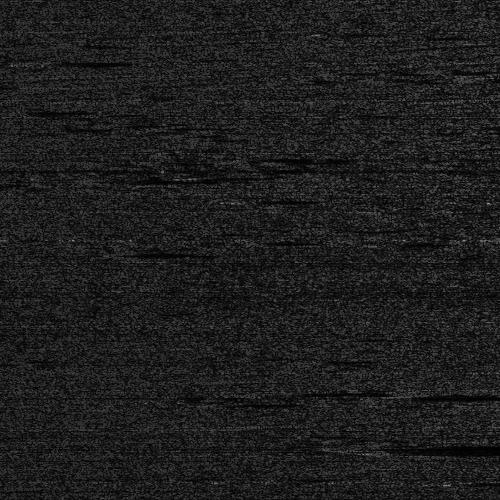rock: (318, 441, 401, 452), (441, 70, 494, 83), (365, 391, 418, 400)
shadow: (360, 441, 500, 452), (392, 391, 500, 400), (468, 70, 500, 83)
